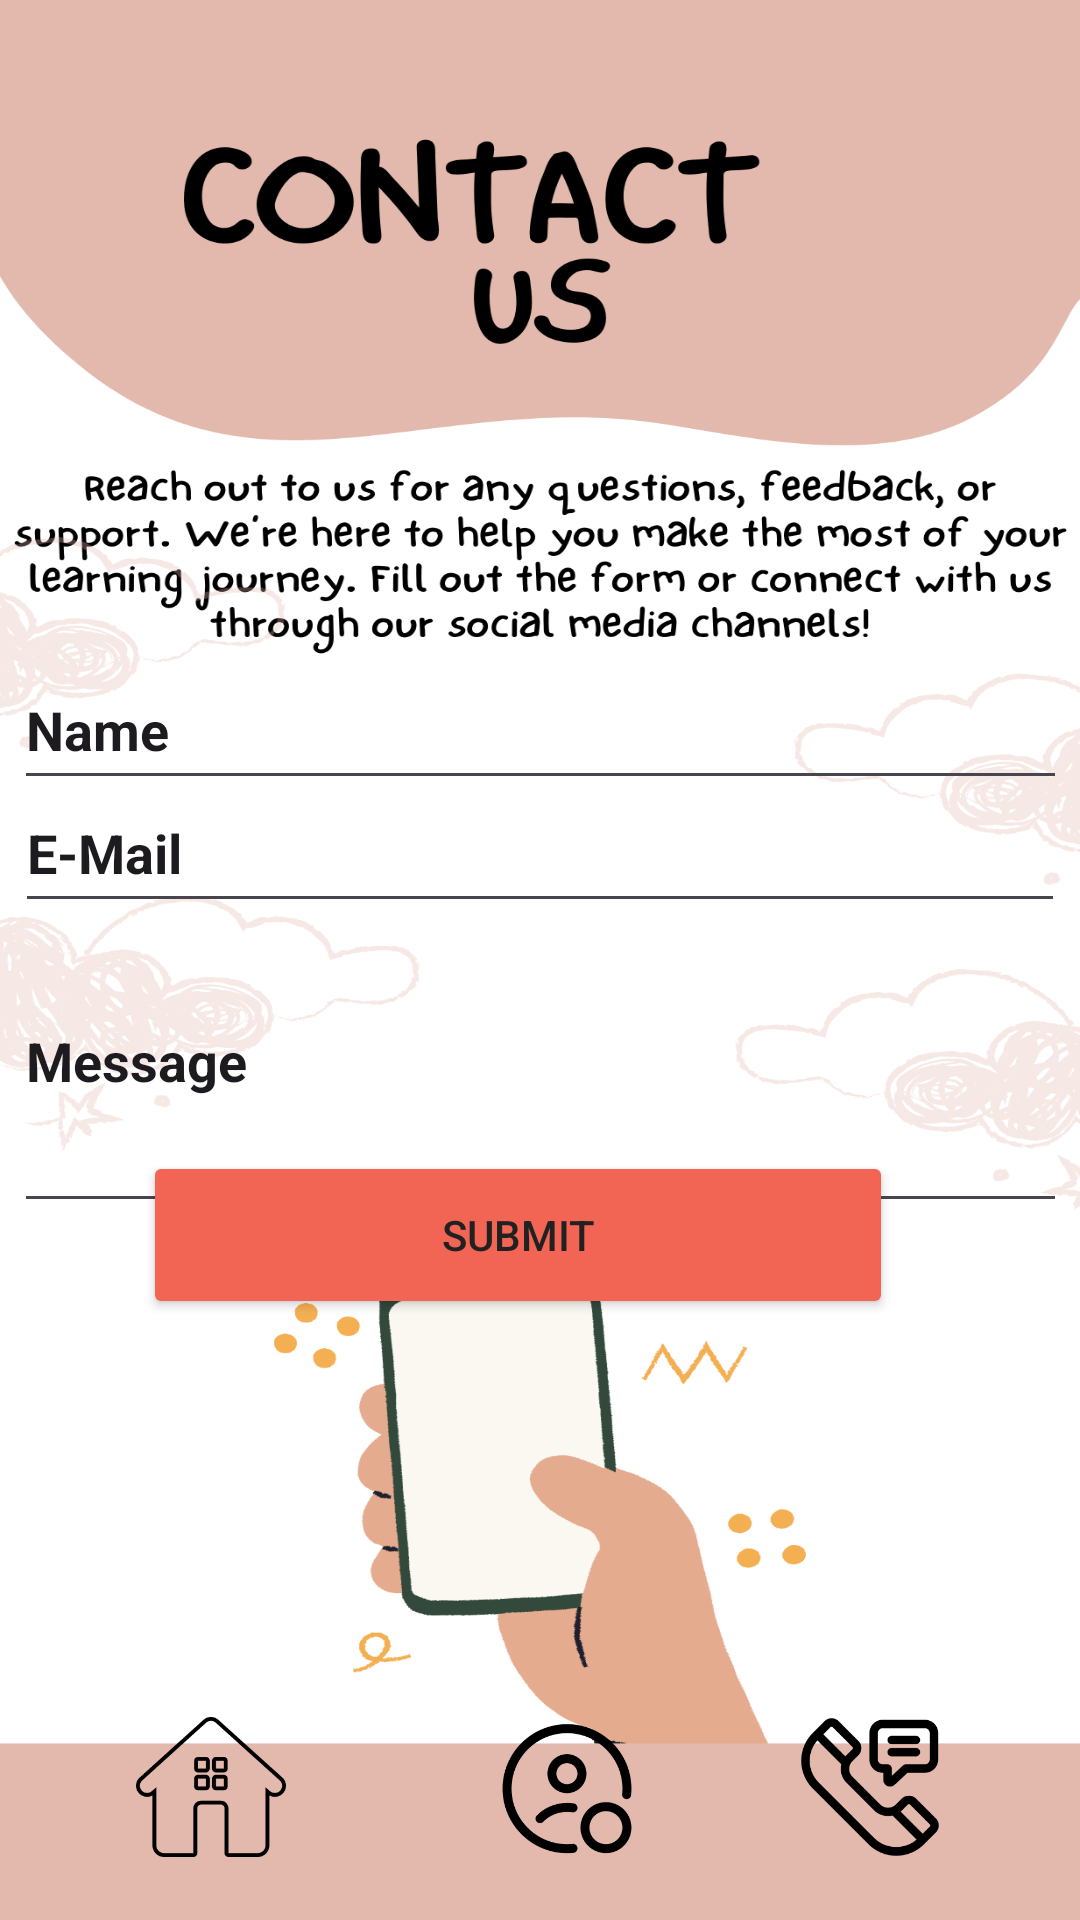

Locate icon controls on the screen. Image size 1080w x 1920h, boxes as {"left": x1, "top": y1, "right": x2, "bottom": y2}.
accho: {"left": 492, "top": 1712, "right": 642, "bottom": 1854}
homee: {"left": 136, "top": 1712, "right": 286, "bottom": 1857}
